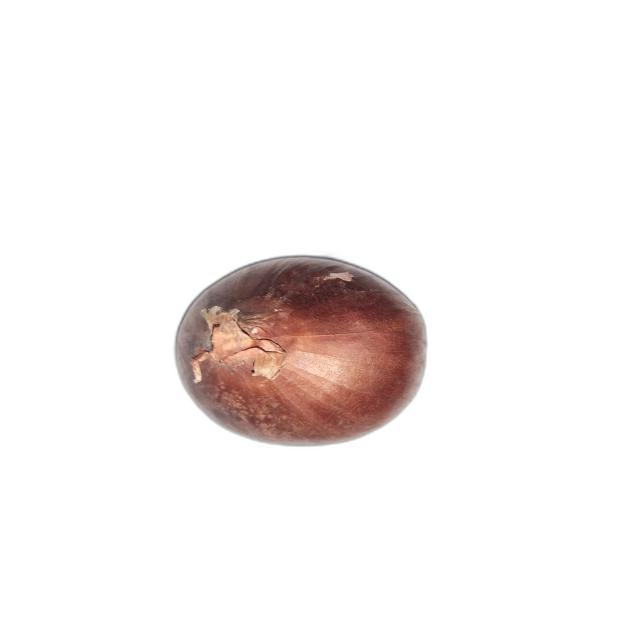onion: (173, 254, 429, 449)
